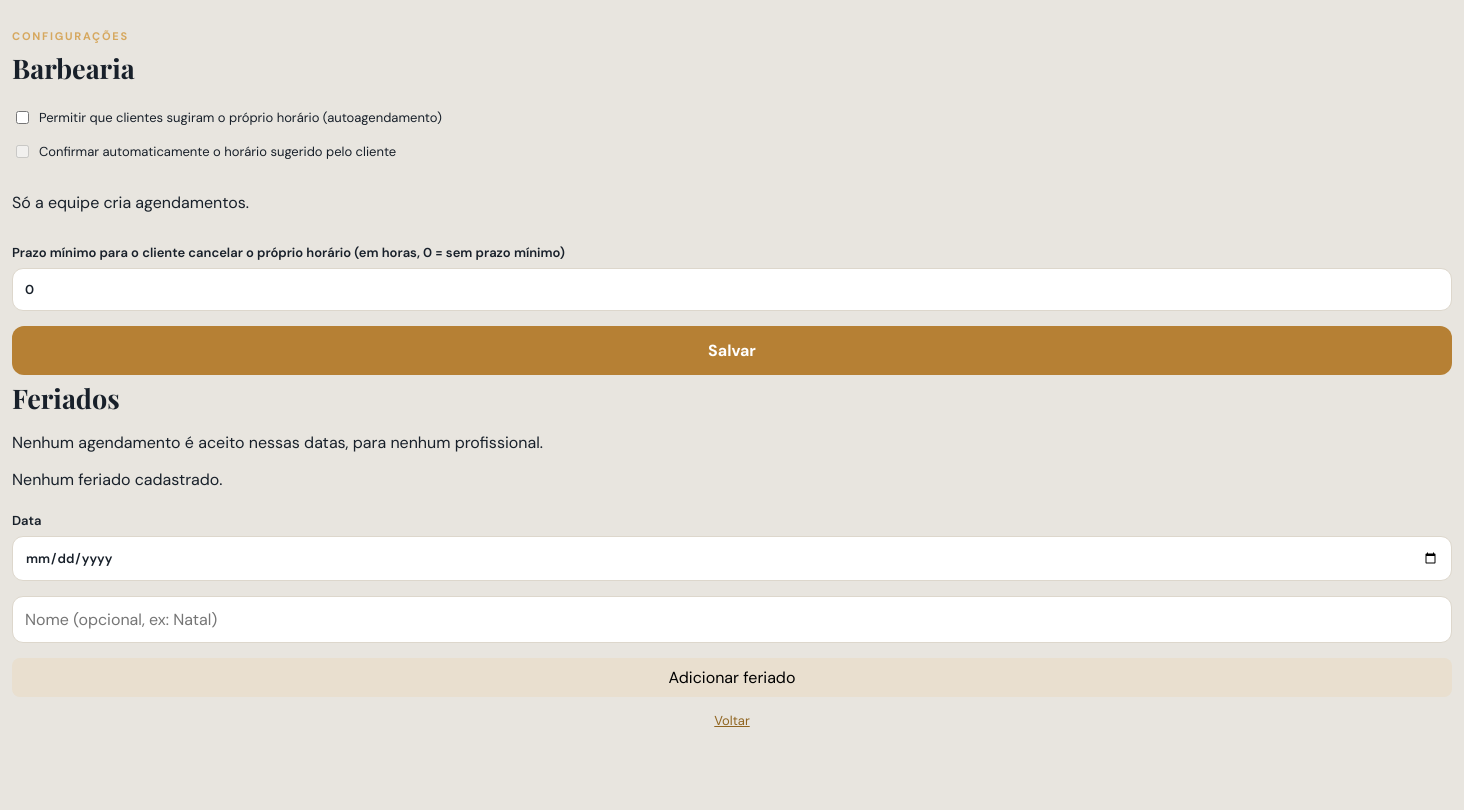
Test: TenantConfig › disables auto-confirm until self-scheduling is enabled
expect the checkbox labelled "Confirmar automaticamente o horário sugerido pelo cliente" is disabled: met, box top-left (16, 145), bottom-right (29, 158)
Step 1. Click the checkbox labelled "Permitir que clientes sugiram" → (22, 118), box top-left (16, 111), bottom-right (29, 124)
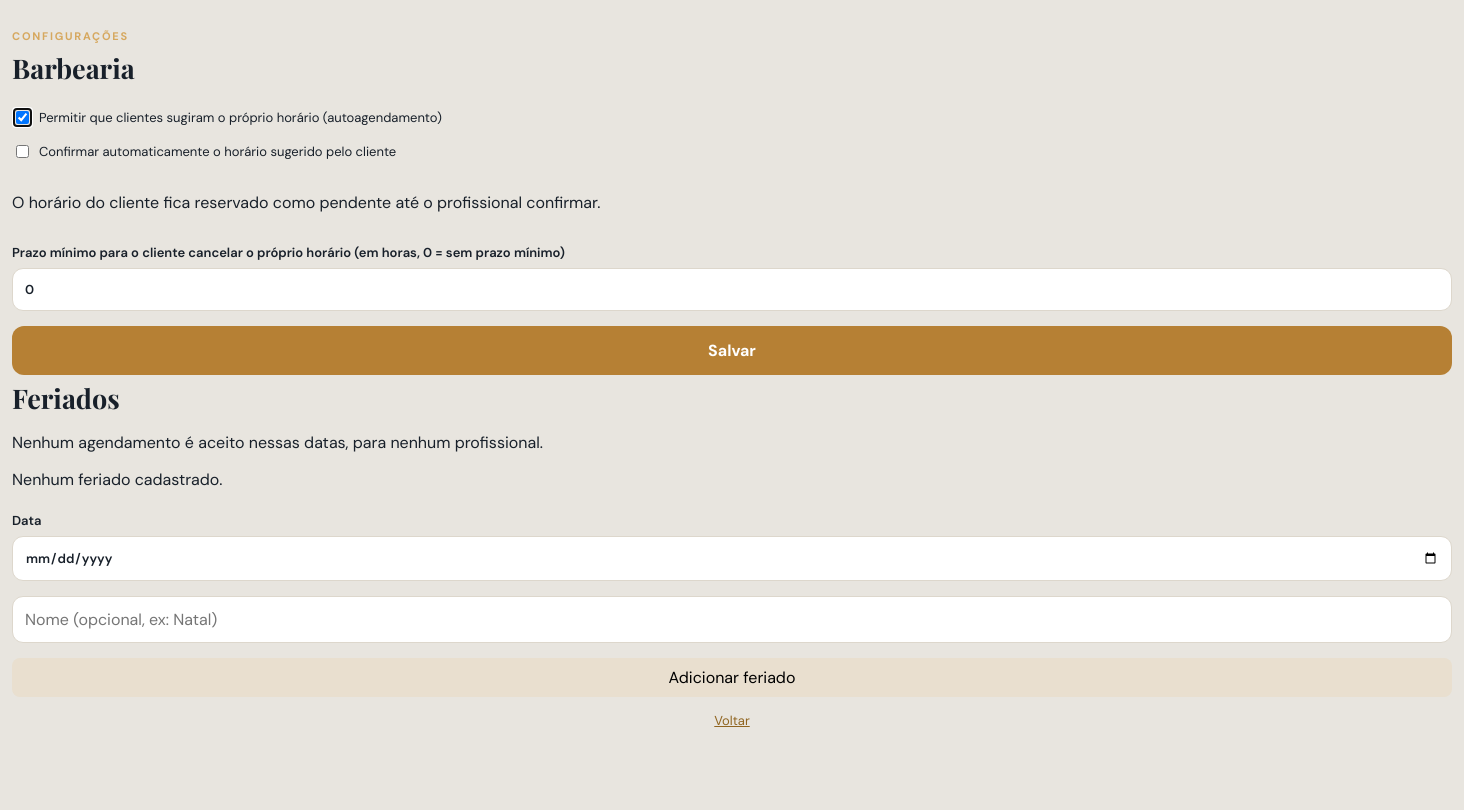
expect the checkbox labelled "Confirmar automaticamente o horário sugerido pelo cliente" is enabled: met, box top-left (16, 145), bottom-right (29, 158)
